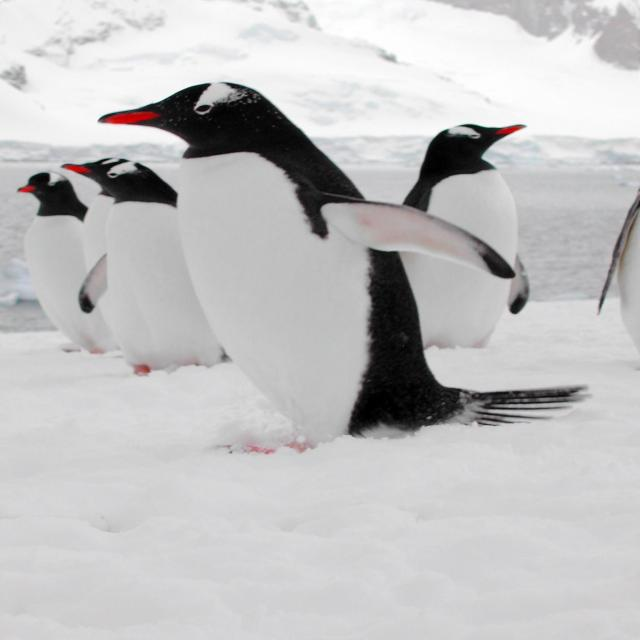Penguins: (109, 78, 430, 476), (384, 113, 544, 358), (57, 148, 227, 374), (17, 164, 119, 366)
